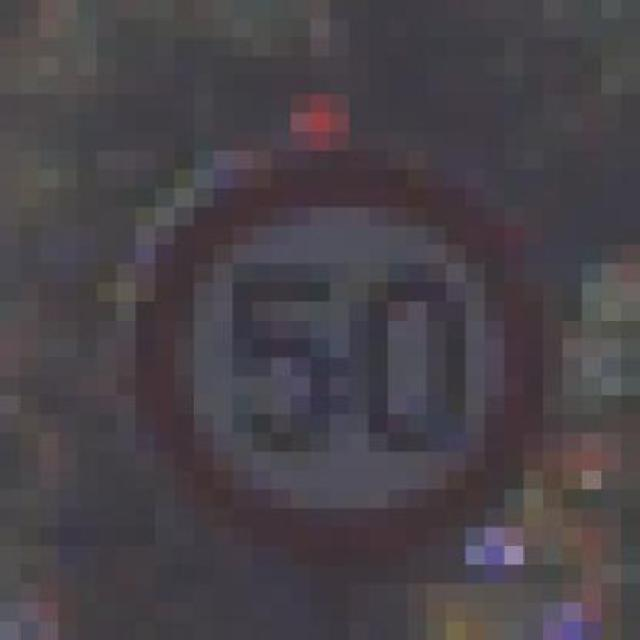50 mph speed limit: (97, 112, 581, 546)
